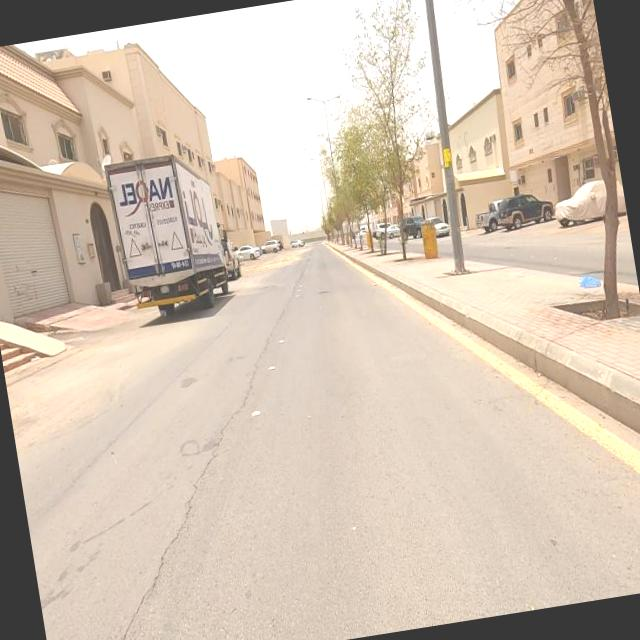debris: (555, 236, 625, 328)
